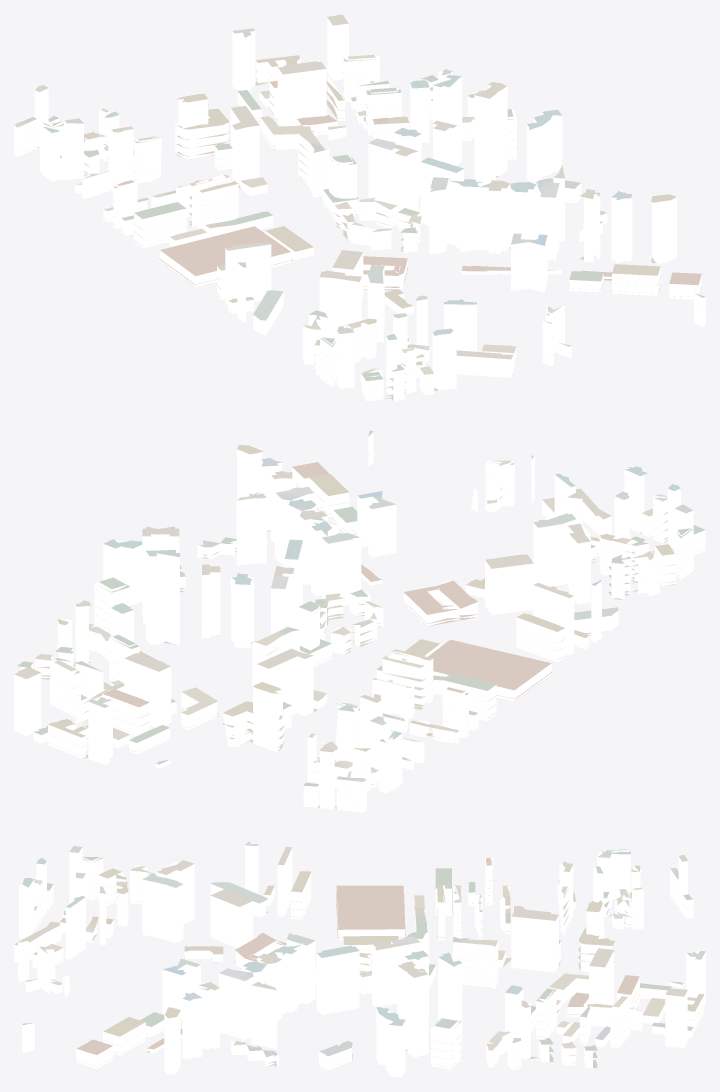
The model's file is buildings--11_-2-coarse.glb.
3 views of the same model, one above another, from view 1: azimuth 30°, elevation 25°; view 2: azimuth 150°, elevation 25°; view 3: azimuth 270°, elevation 25° (orthographic). The views are drawn at different scales.
Visible parts, largest first — view 1: block_-11_-2_office, block_-11_-2_residential, block_-11_-2_roof; view 2: block_-11_-2_office, block_-11_-2_residential, block_-11_-2_roof; view 3: block_-11_-2_office, block_-11_-2_residential, block_-11_-2_roof.
Boxes of the visible parts, x1,y1,x2,y2 form: block_-11_-2_office: (34,18,676,394); block_-11_-2_residential: (14,55,705,401); block_-11_-2_roof: (14,14,705,401); block_-11_-2_office: (14,445,693,809); block_-11_-2_residential: (20,431,705,812); block_-11_-2_roof: (14,430,705,809); block_-11_-2_office: (14,845,705,1077); block_-11_-2_residential: (18,857,704,1070); block_-11_-2_roof: (14,841,705,1071).
Bounding box in the file's own units: 410 × 88.9 × 658.
